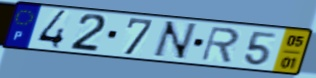2: (67, 12, 108, 54)
4: (35, 8, 69, 51)
5: (243, 30, 280, 67)
7: (124, 17, 154, 57)
N: (149, 20, 199, 61)
R: (199, 25, 242, 64)
